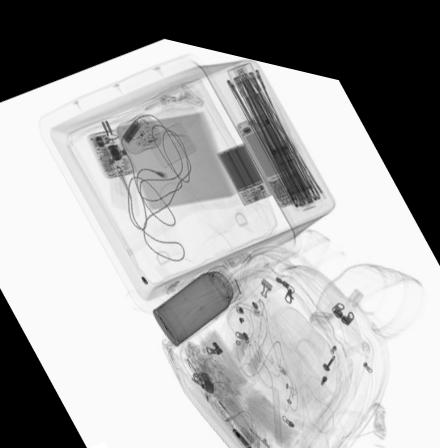Powerbank: (212, 126, 274, 195)
